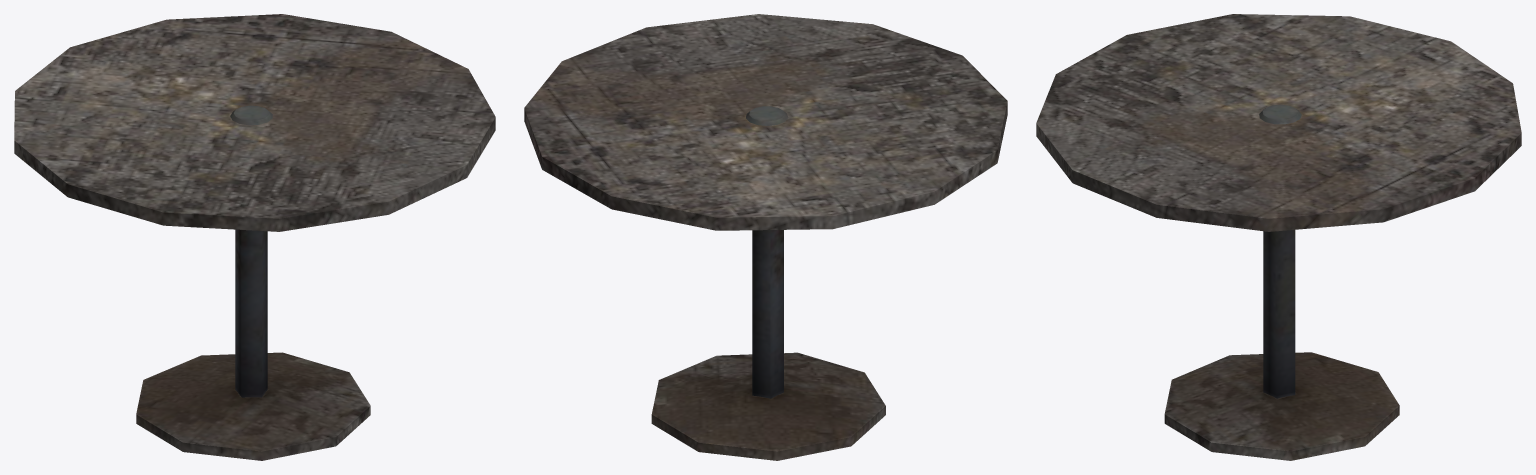
File: FancyRoundTable.FBX
3 renders of one model, left to right at view 1: azimuth 30°, elevation 25°; view 2: azimuth 150°, elevation 25°; view 3: azimuth 270°, elevation 25°, orthographic.
Parts seen in each view (by area): view 1: FancyRoundTable; view 2: FancyRoundTable; view 3: FancyRoundTable.
Part boxes in pixels (x1,y1,x2,y2): FancyRoundTable: (14,14,495,460); FancyRoundTable: (524,14,1007,460); FancyRoundTable: (1036,14,1521,460).
Bounding box in the file's own units: 124 × 84.5 × 125.
